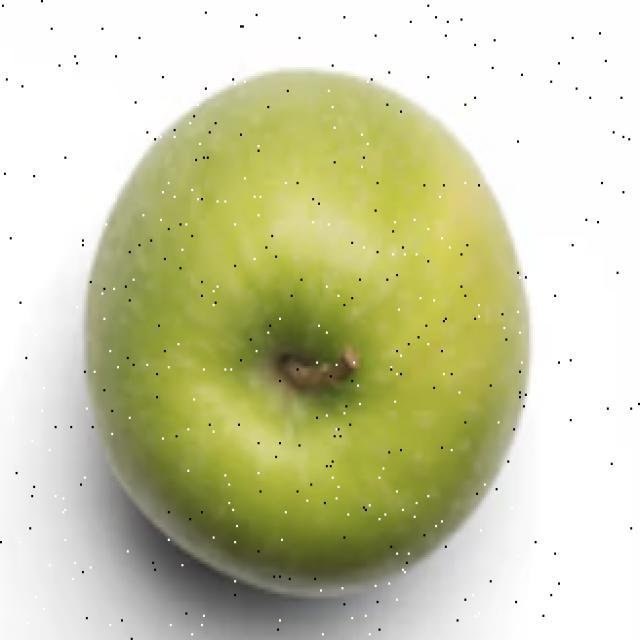Fresh Apple: (75, 85, 540, 597)
